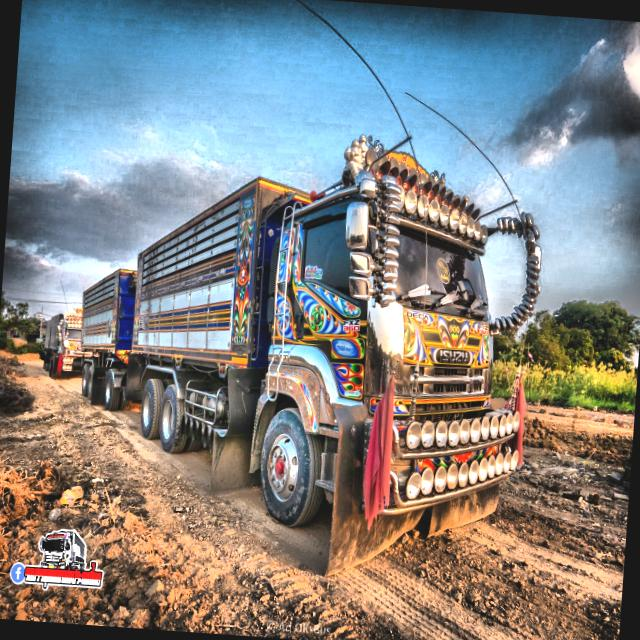trailer: (64, 107, 556, 556)
